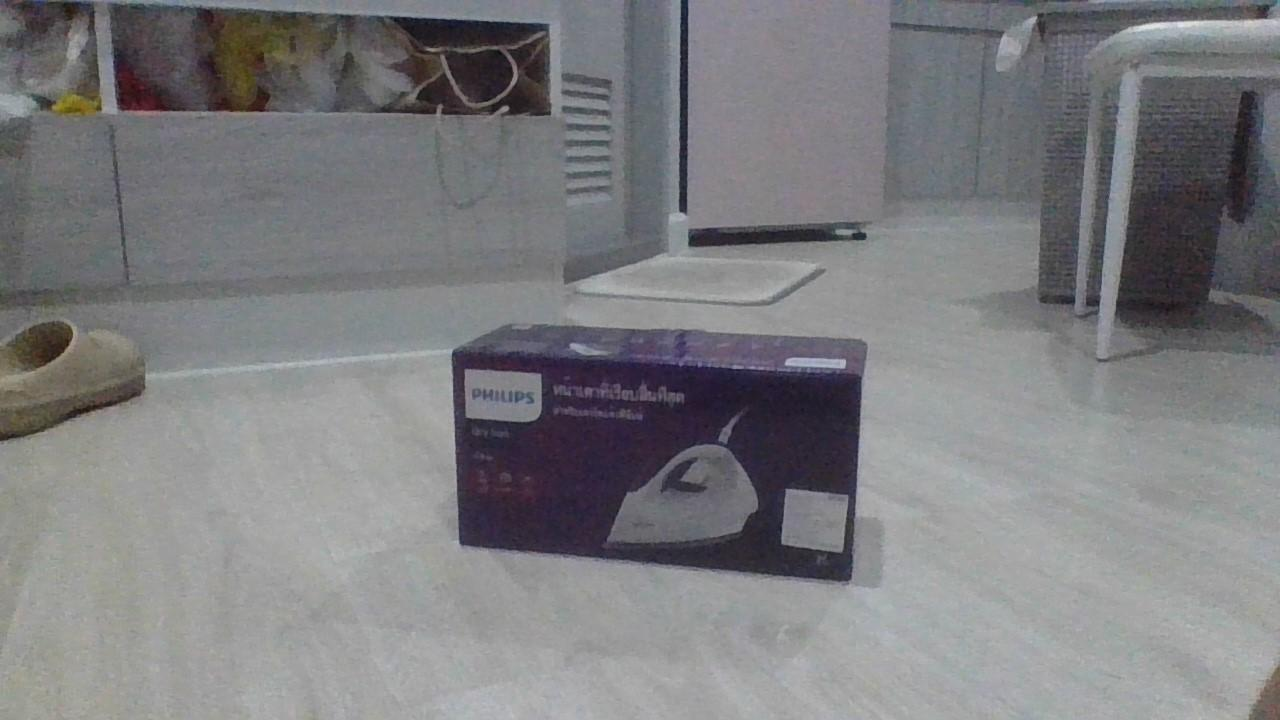IRON: (447, 318, 871, 587)
